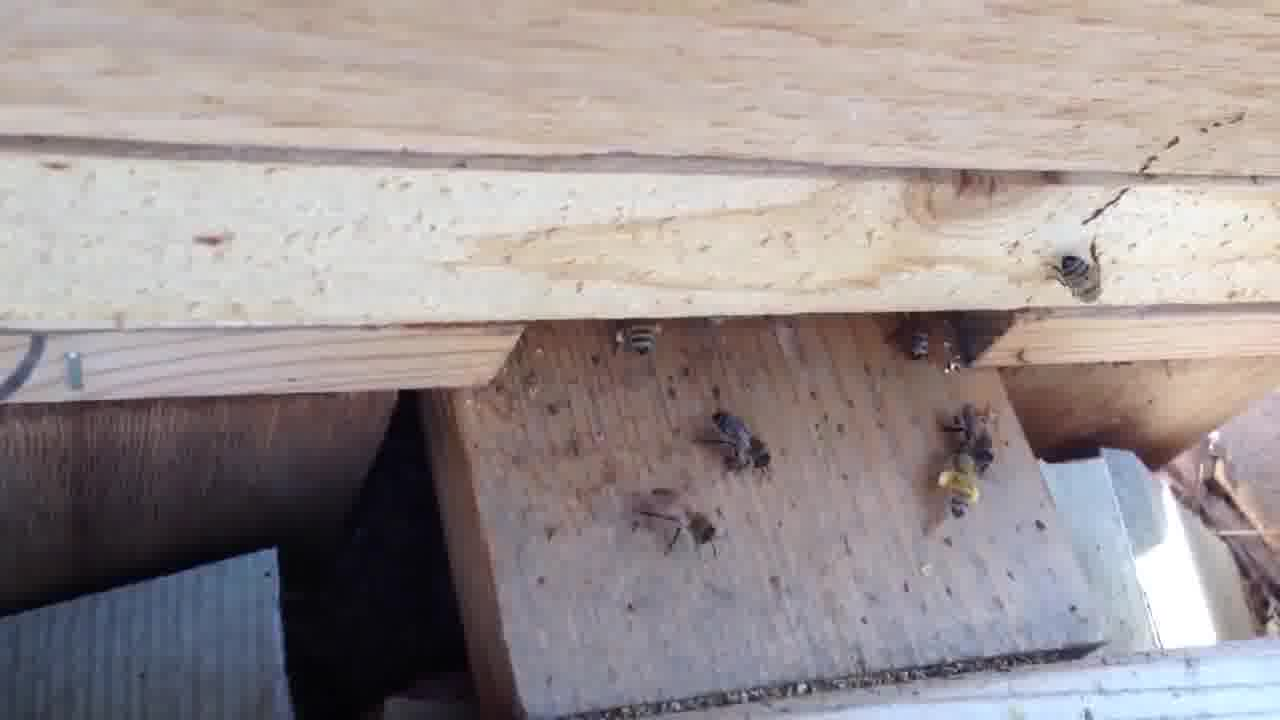pollen: (926, 448, 986, 519)
